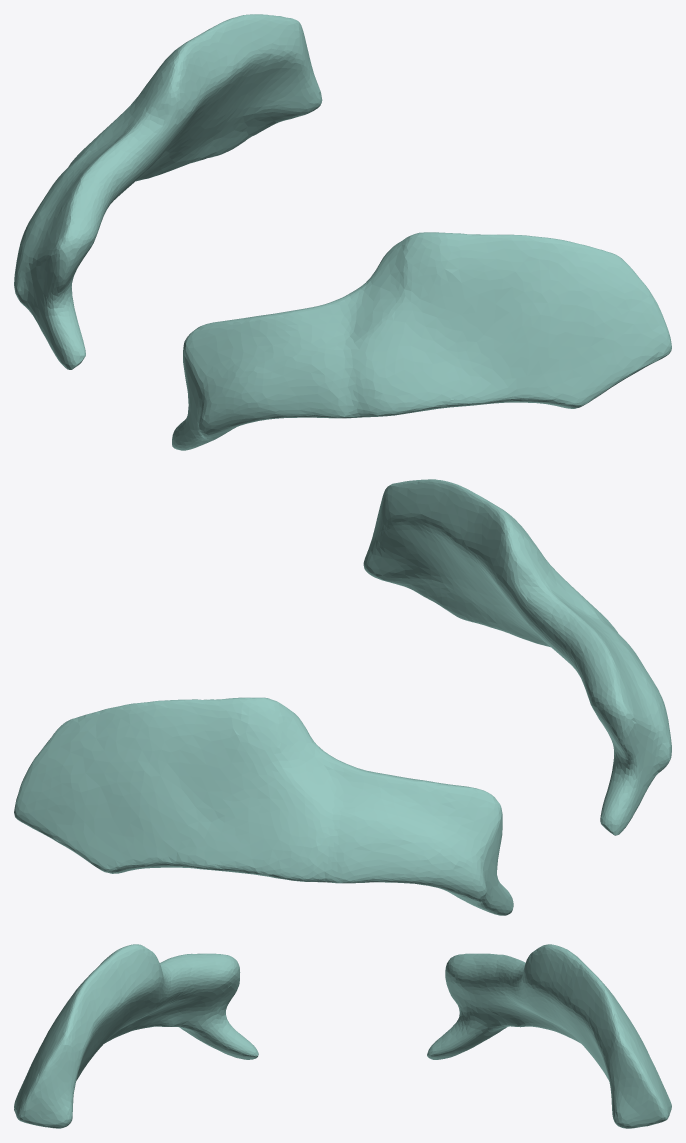
3 views of the same model, one above another, from view 1: azimuth 30°, elevation 25°; view 2: azimuth 150°, elevation 25°; view 3: azimuth 270°, elevation 25° (orthographic). The views are drawn at different scales.
Parts seen in each view (by area): view 1: 961.obj; view 2: 961.obj; view 3: 961.obj.
Boxes of the visible parts, x1,y1,x2,y2 form: 961.obj: (14, 14, 671, 450); 961.obj: (14, 479, 671, 915); 961.obj: (14, 944, 671, 1128).
Bounding box in the file's own units: 5381 × 3029 × 9431.
